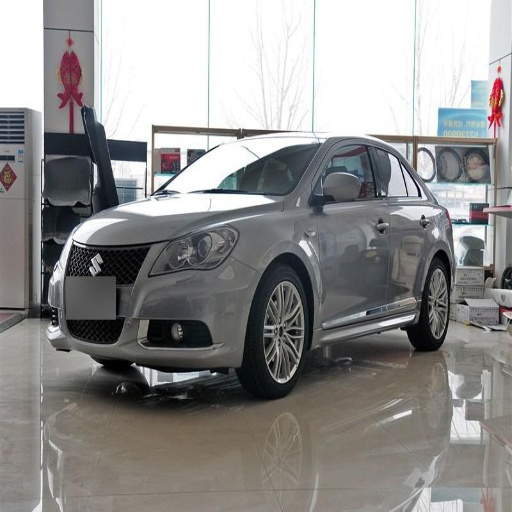front_bumper: (51, 239, 259, 371)
front_glass: (160, 145, 320, 195)
front_left_door: (307, 141, 390, 321)
